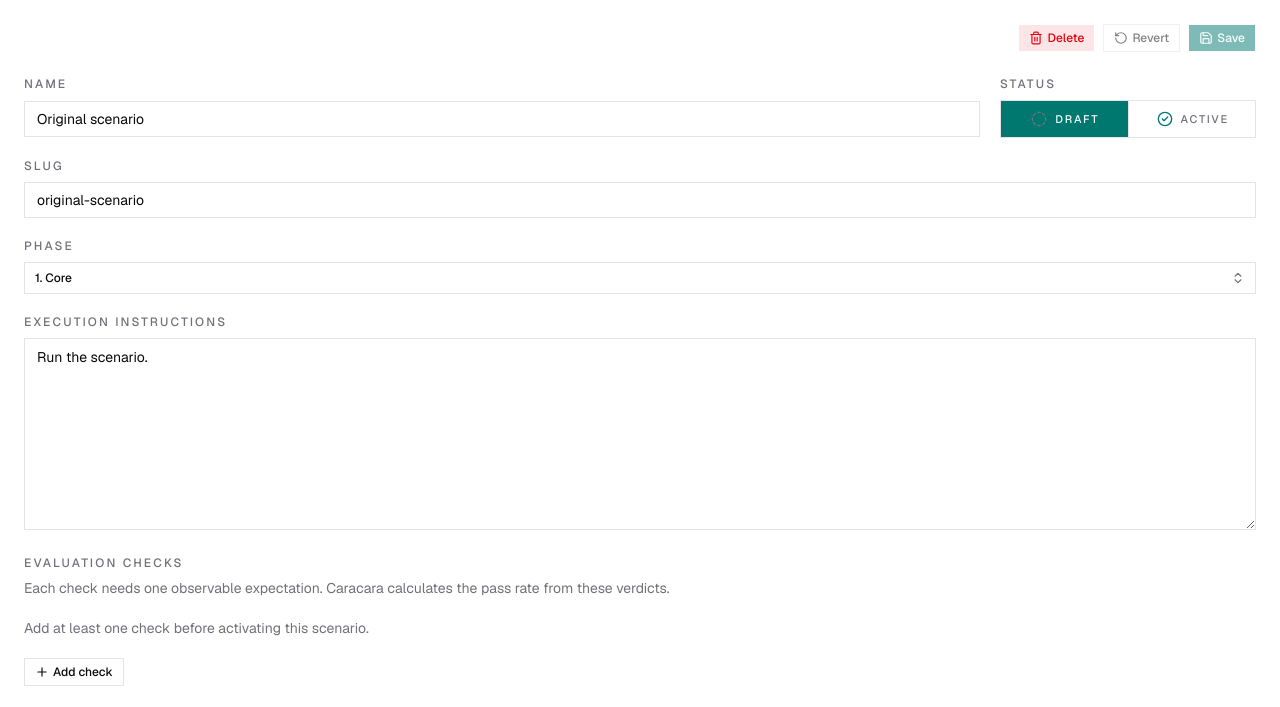
Test: scenario dependency feedback › shows a backend cycle message without losing unsaved form state
Step 1. Replace the text in the field with placeholder "Scenario name" below "Name" with "Unsaved scenario name" → (502, 119), box [24,101,980,137]
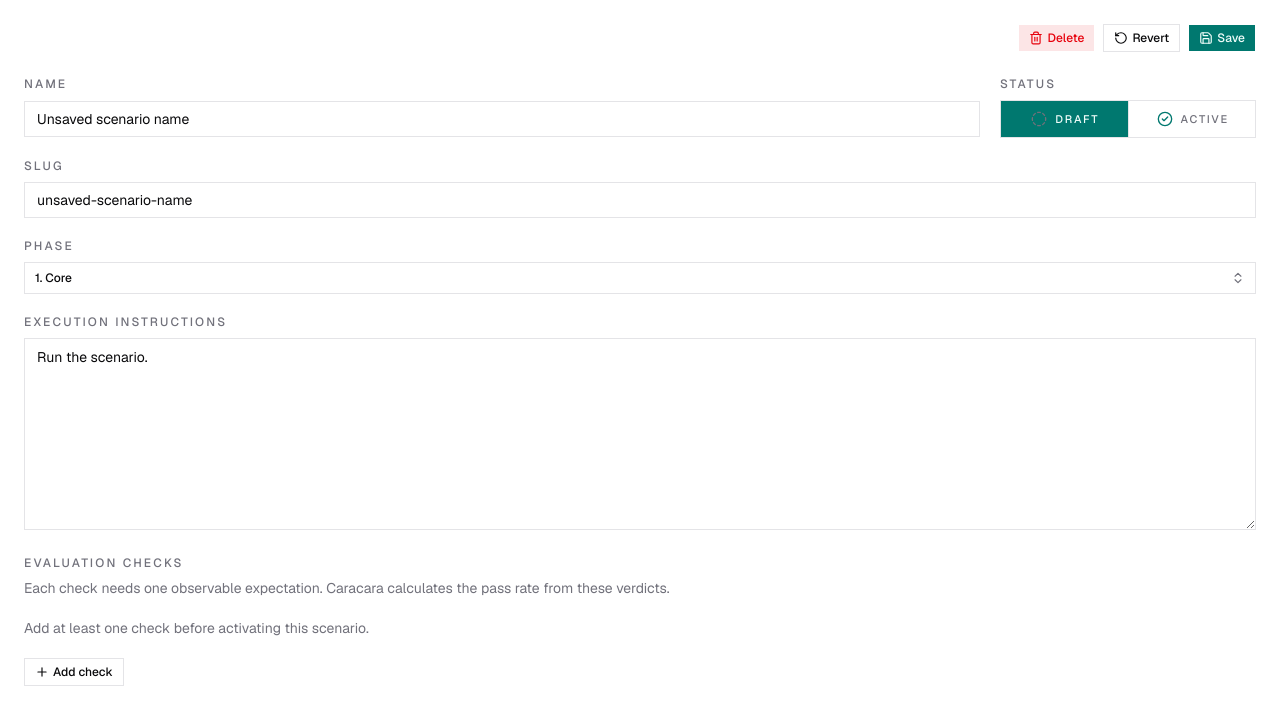
Step 2. Click the button "Save" → click(1222, 38), box [1188,24,1256,52]
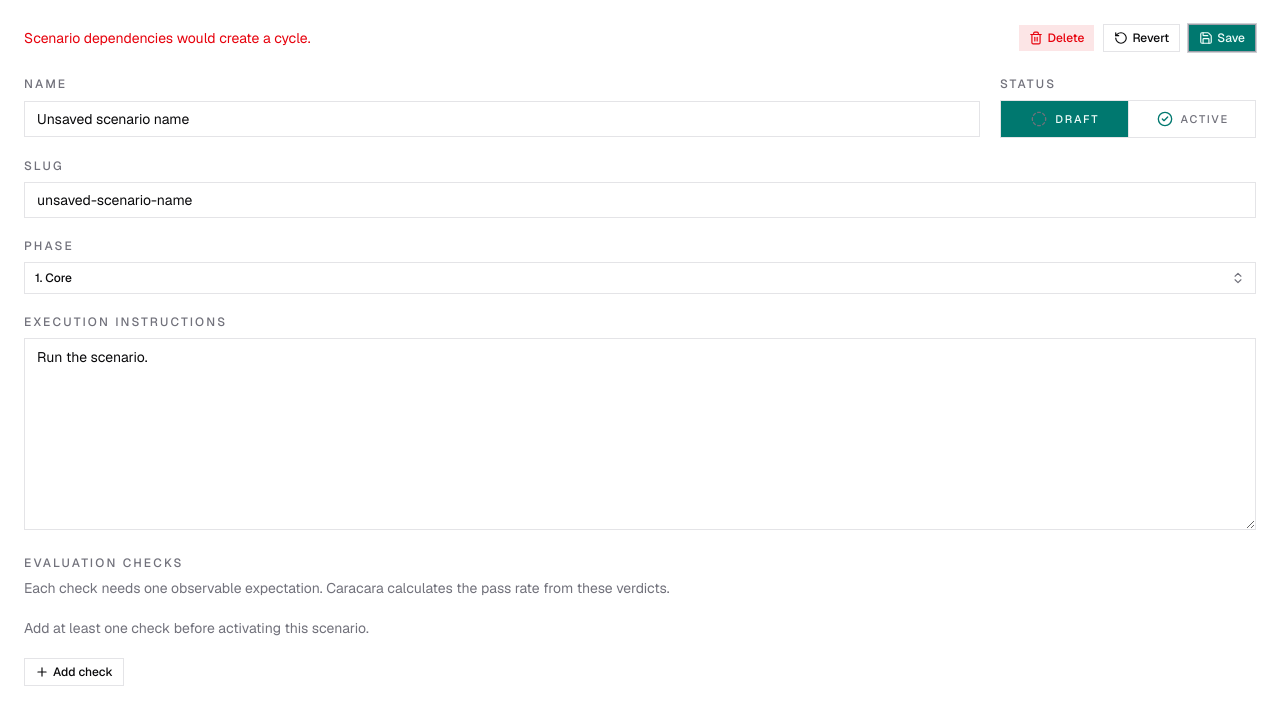
Now the message reads "Scenario dependencies would create a cycle.", box [24,29,310,47]
